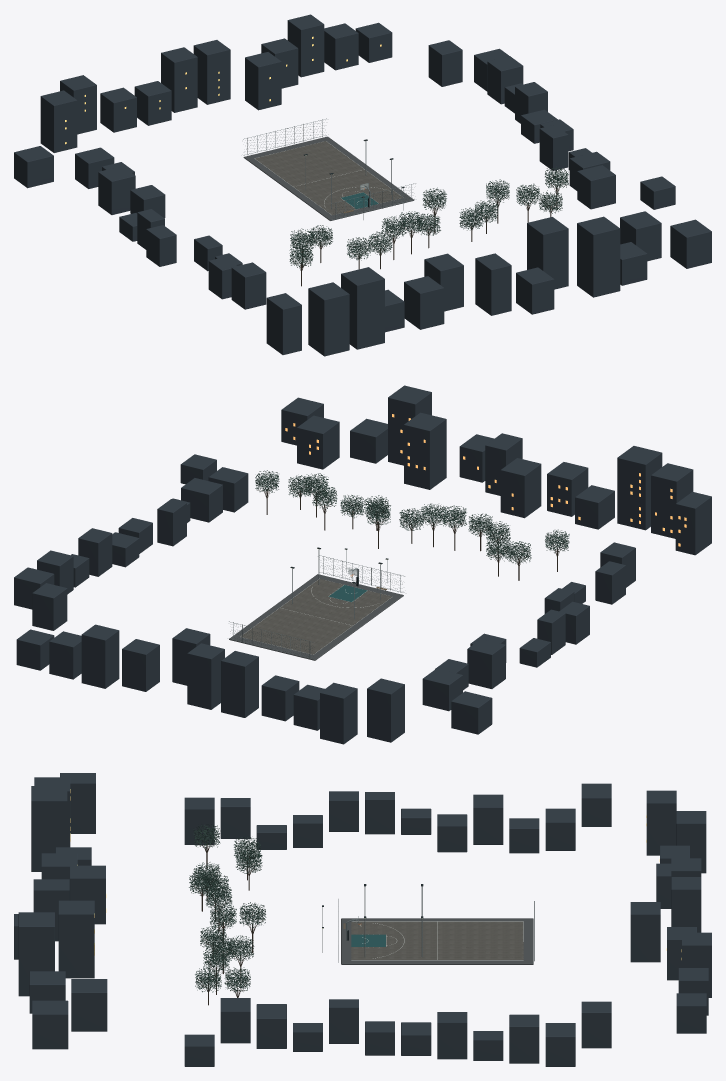
File: court.glb
3 renders of one model, top to bottom at view 1: azimuth 30°, elevation 25°; view 2: azimuth 150°, elevation 25°; view 3: azimuth 270°, elevation 25°, orthographic. The views are drawn at different scales.
Visible parts, largest first — view 1: Court asphalt / 28.6512 x 15.24 m, Distant building.009, Distant building.002, Distant building.001, Distant building.008, Far park building, Far park building.005, Distant building.006, Raised court foundation, Far park building.004, Distant building, Far park building.006 (+32 smaller); view 2: Court asphalt / 28.6512 x 15.24 m, Distant building.008, Distant building.002, Far park building.004, Distant building.001, Far park building.008, Distant building.005, Far park building, Far park building.005, Raised court foundation, Far park building.001, Distant building (+32 smaller); view 3: Court asphalt / 28.6512 x 15.24 m, Distant building.008, Distant building.002, Distant building.009, Raised court foundation, Distant building.011, Far park building.006, Distant building.012, Far park building, Distant building, Far park building.005, Side park silhouette.003 (+45 smaller).
Boxes of the visible parts, x1,y1,x2,y2 form: Court asphalt / 28.6512 x 15.24 m: (255,141,402,215); Distant building.009: (577,216,620,297); Distant building.002: (341,267,384,349); Distant building.001: (308,282,349,356); Distant building.008: (527,217,568,289); Far park building: (40,90,77,152); Far park building.005: (193,40,230,104); Distant building.006: (475,253,511,315); Raised court foundation: (243,136,414,220); Far park building.004: (161,47,197,112); Distant building: (266,293,301,354); Far park building.006: (245,52,281,110); Court asphalt / 28.6512 x 15.24 m: (240,579,391,654); Distant building.008: (404,412,446,489); Distant building.002: (617,446,662,530); Far park building.004: (221,651,258,717); Distant building.001: (651,463,693,538); Far park building.008: (81,624,119,688); Distant building.005: (500,458,541,518); Far park building: (367,678,404,742); Far park building.005: (187,643,224,709); Raised court foundation: (229,574,403,660); Far park building.001: (320,682,357,744); Distant building: (675,491,711,555); Court asphalt / 28.6512 x 15.24 m: (351,921,523,959); Distant building.008: (58,900,94,978); Distant building.002: (31,786,67,871); Distant building.009: (18,912,54,996); Raised court foundation: (341,918,533,964); Distant building.011: (71,979,107,1031); Far park building.006: (630,902,660,962); Distant building.012: (32,1000,68,1049); Far park building: (646,790,676,855); Distant building: (60,773,95,833); Far park building.005: (671,877,701,932); Side park silhouette.003: (473,794,503,844).
Size of what is drawn, in the model's own units: 100 by 13.32 by 116.
16 materials, 1 textured.
